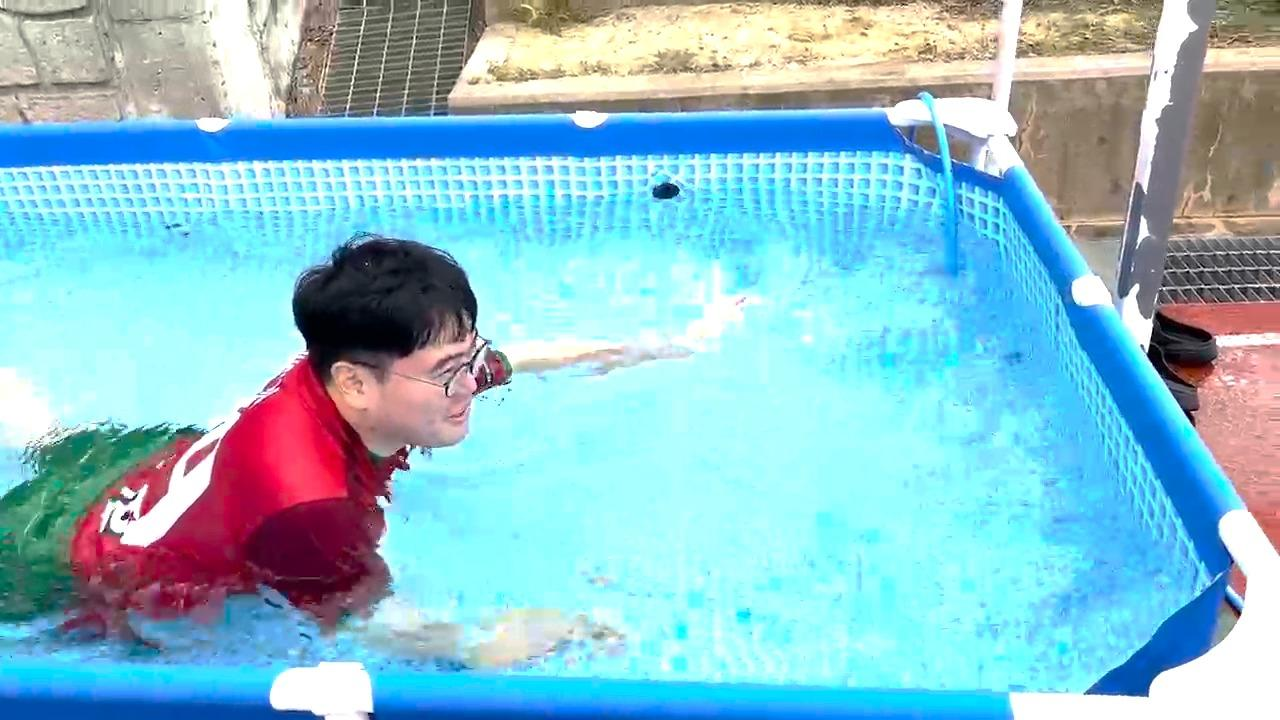Swimming: (0, 220, 769, 683)
